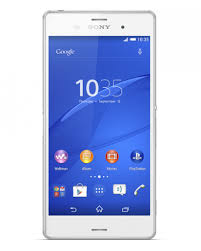sony: (41, 6, 158, 240)
